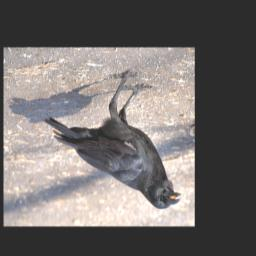Crow: (44, 69, 181, 211)
